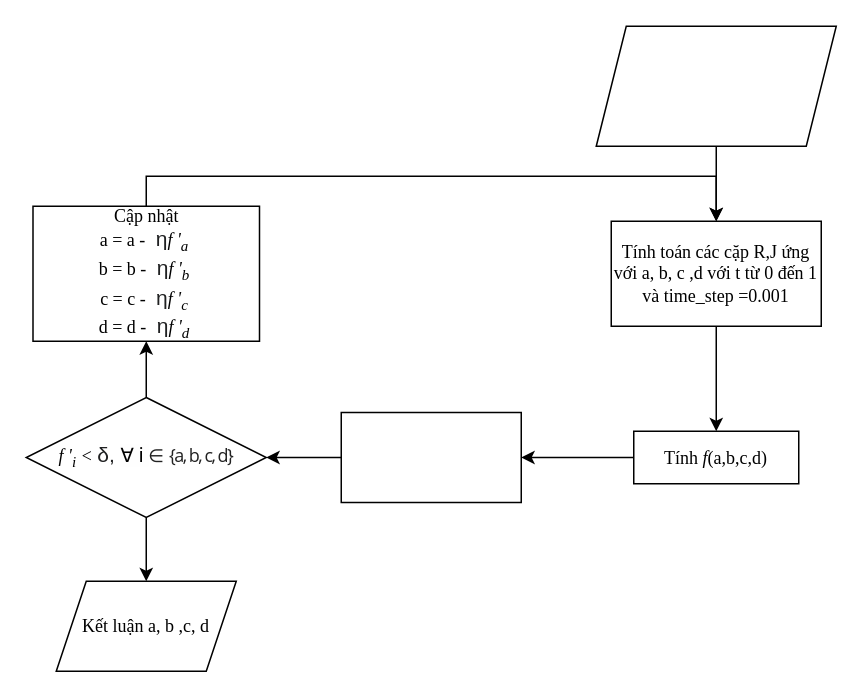
The diagram is 863 pixels wide and 698 high, and some of its shapes have lost their labels. The centre of each missing label's shape, as x and y in pixels:
R 0 = -2, J 0 = 3 Khởi tạo giá trị a,b,c,d: point (715, 85)
Tính f ' a , f ' b , f ' c , f ' d: point (430, 456)
